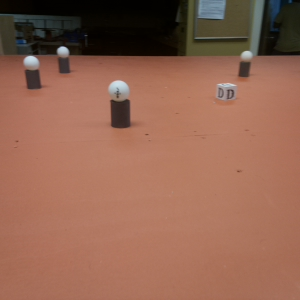blockD: (217, 82, 236, 103)
obstacle: (109, 80, 131, 127), (25, 55, 39, 90), (238, 51, 253, 76), (57, 46, 69, 76)
